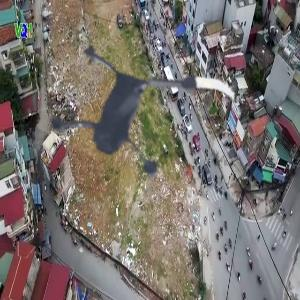drone: (27, 18, 245, 236)
